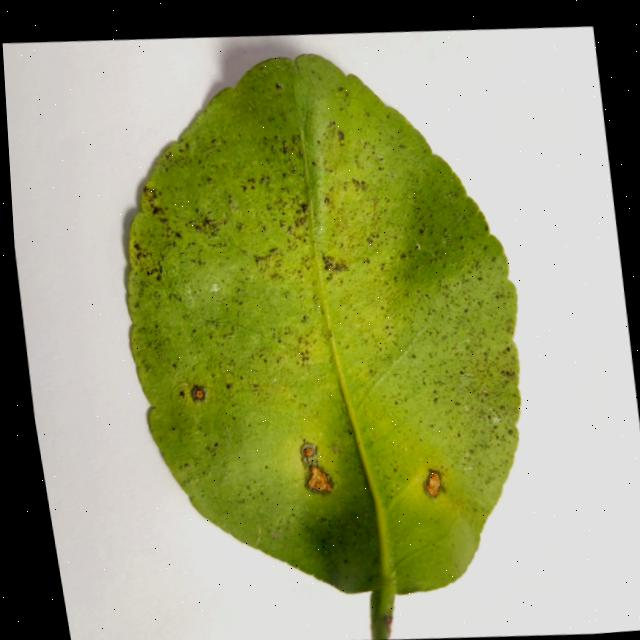antracnose: (127, 54, 519, 639), (306, 465, 331, 491), (424, 471, 440, 497), (190, 385, 205, 401)
